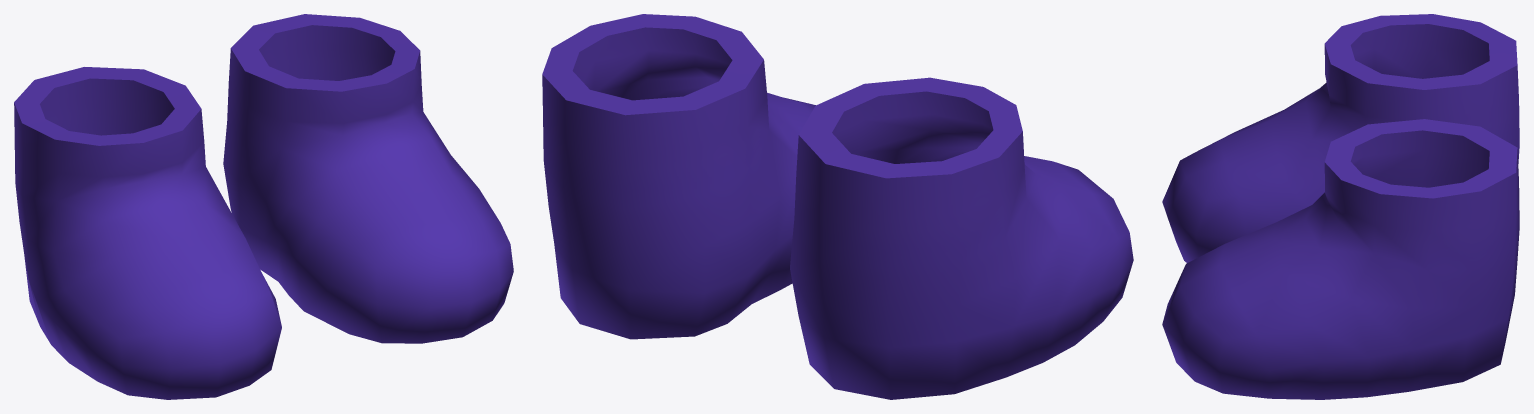
The model's file is Costume_1_03.glb.
3 views of the same model, side by side, from view 1: azimuth 30°, elevation 25°; view 2: azimuth 150°, elevation 25°; view 3: azimuth 270°, elevation 25° (orthographic). The views are drawn at different scales.
Parts seen in each view (by area): view 1: Costume_1_03; view 2: Costume_1_03; view 3: Costume_1_03.
Part boxes in pixels (<box>): Costume_1_03: <box>14,14,513,399</box>; Costume_1_03: <box>542,14,1133,399</box>; Costume_1_03: <box>1162,14,1519,399</box>.
Size of the model in its own units: 0.2637 by 0.1224 by 0.1921.
Materials: 1 (1 with a texture image).
